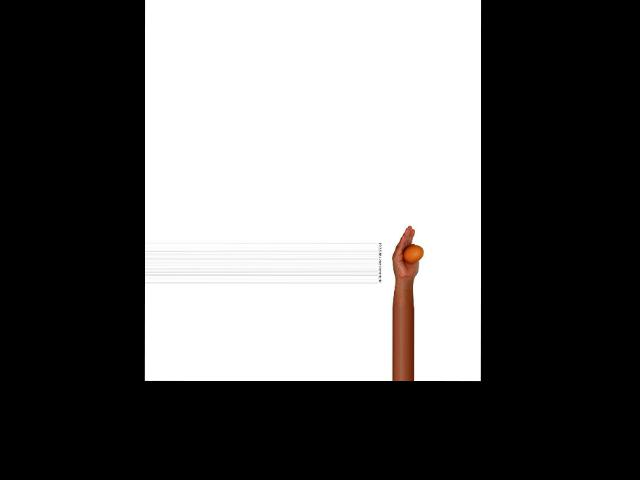egg: (402, 244, 423, 262)
